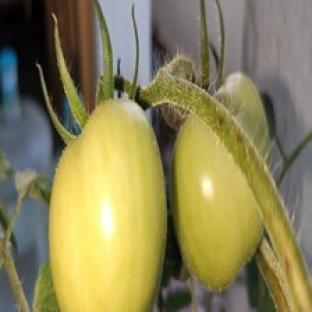Tomato: (49, 101, 167, 311), (170, 116, 261, 289), (215, 73, 270, 157)
